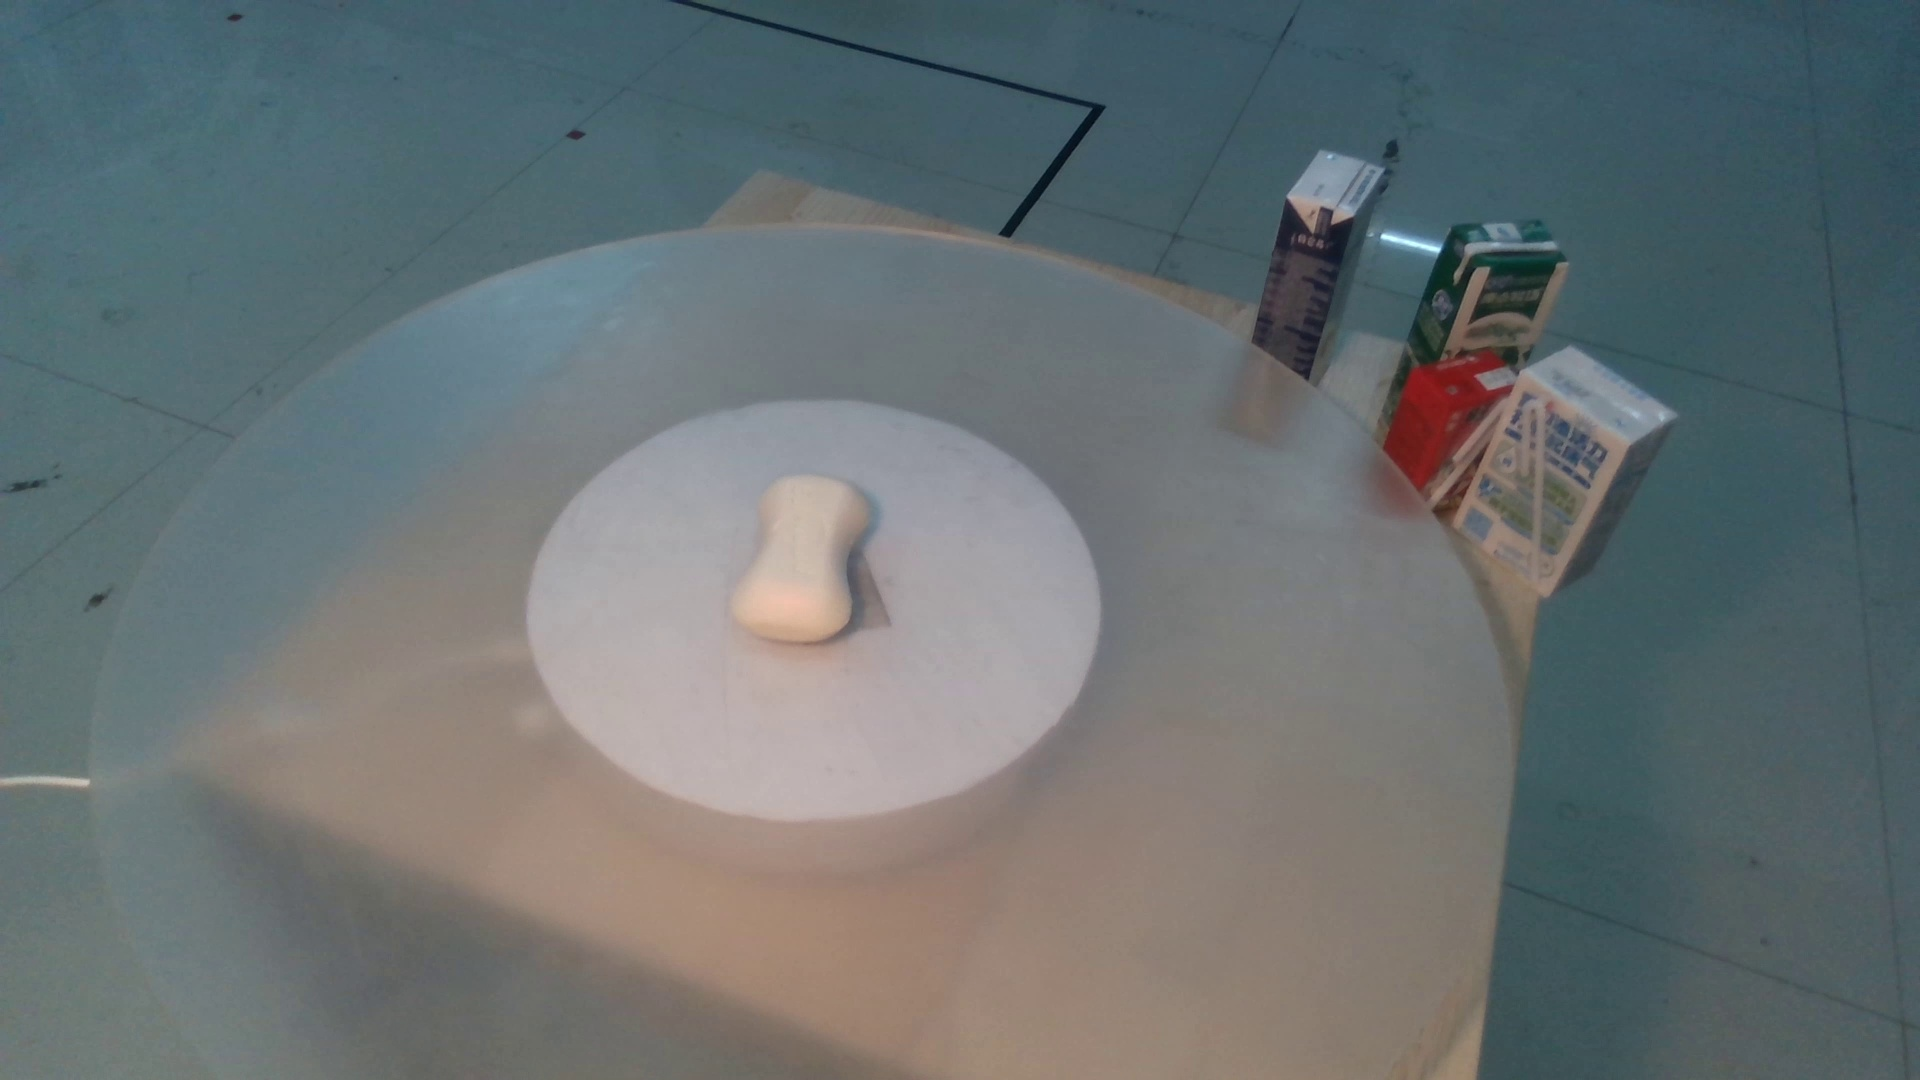CA003_1: (688, 465, 939, 662)
